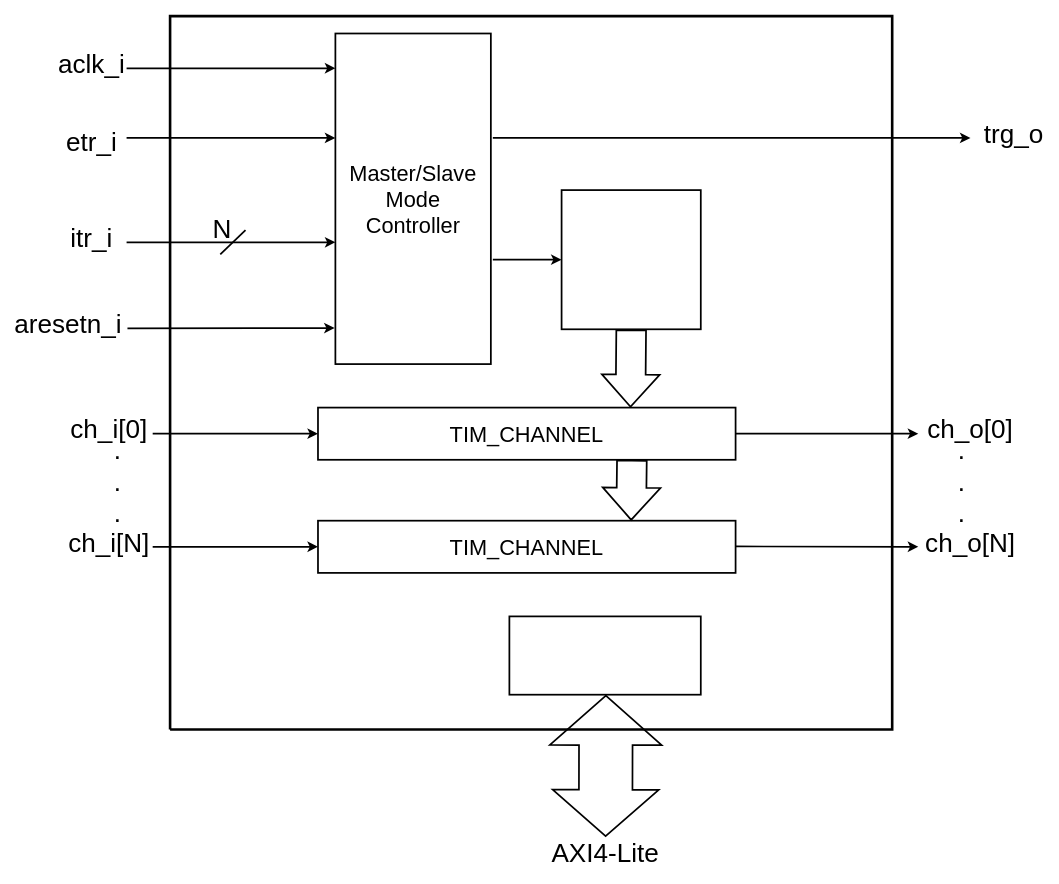
The diagram is 1059 pixels wide and 884 high, and some of its shapes have lost their labels. Each missing label, with the centre of its shape:
"Reg Block" belongs at [604,655].
"Time Base Unit" belongs at [630,259].
